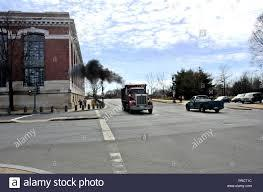smoke: (67, 59, 126, 86)
